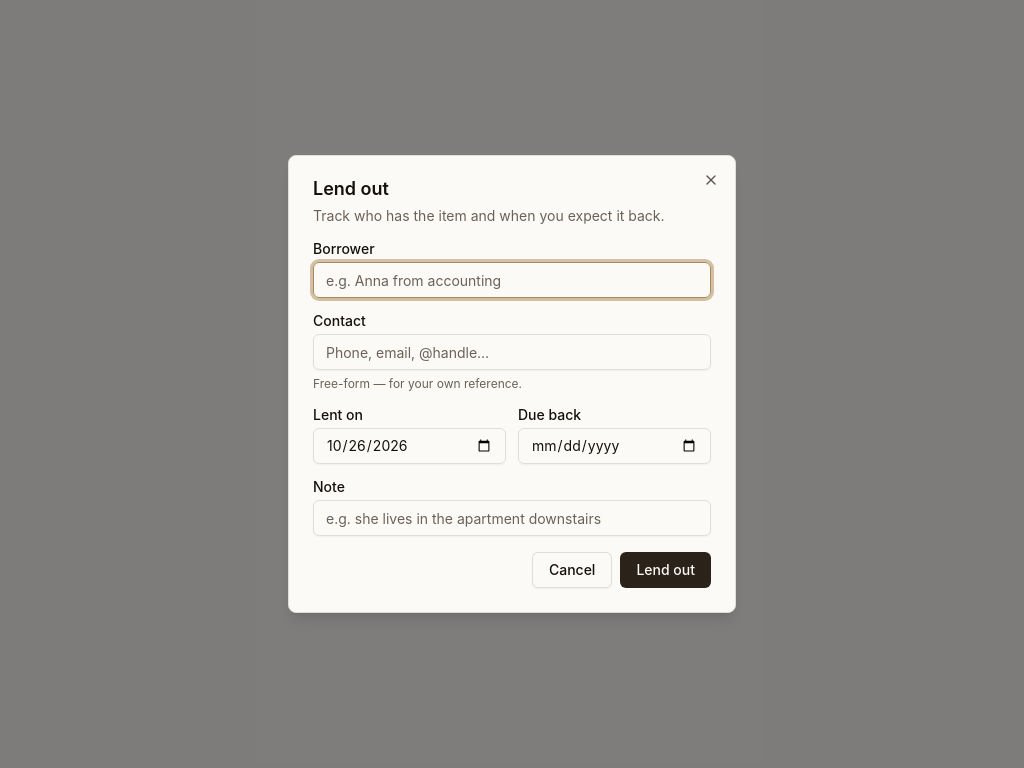
Test: <LendDialog /> › rejects an invalid lent_at format
Type "Alice" into the field with test id "lend-borrower-name" at (512, 280), box [313,262,711,298]
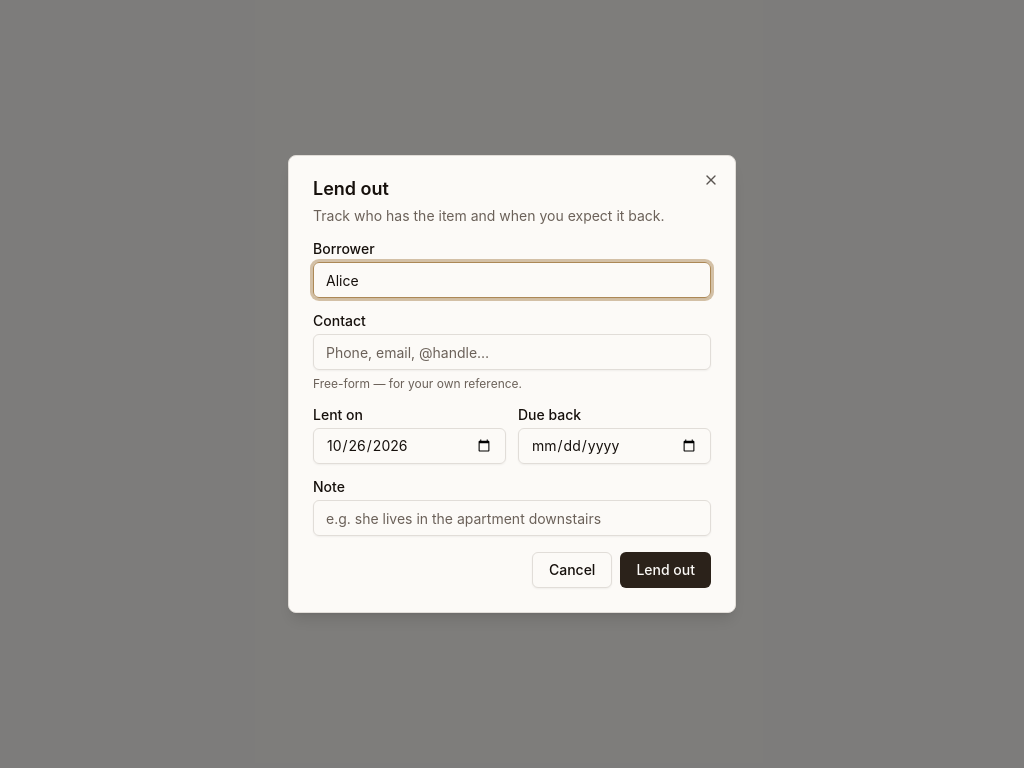
Type "not-a-date" into the date field with test id "lend-lent-at" at (410, 446), box [313,428,506,464]
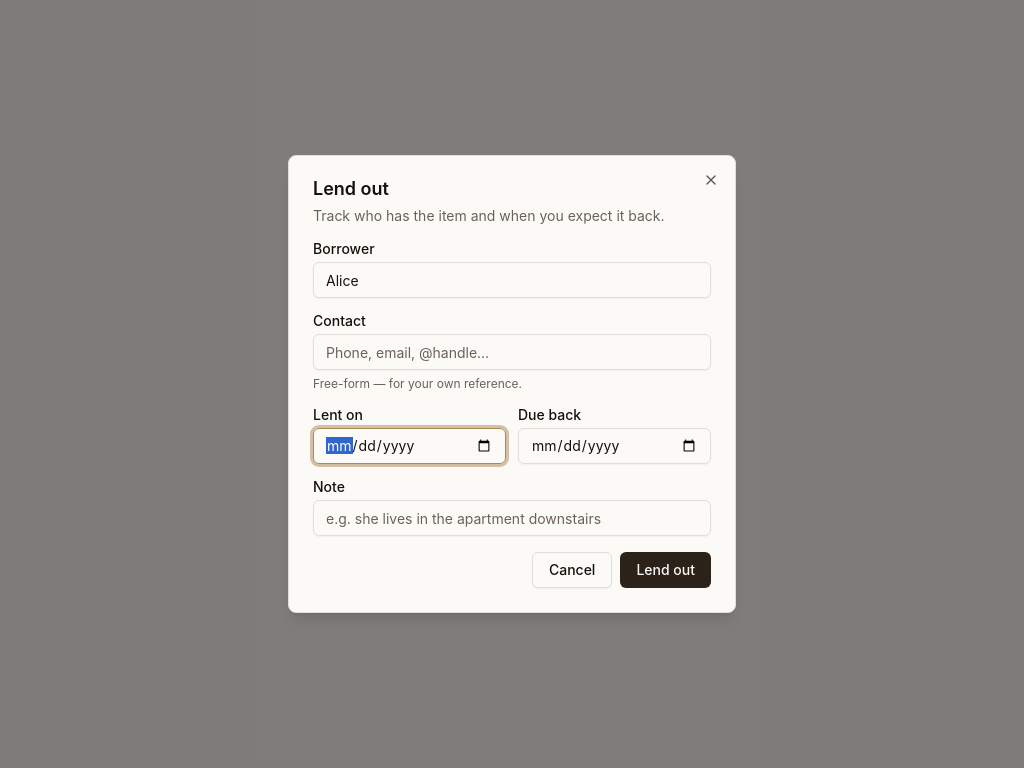
Click the button with test id "lend-submit" at (666, 570), box [620,552,711,588]
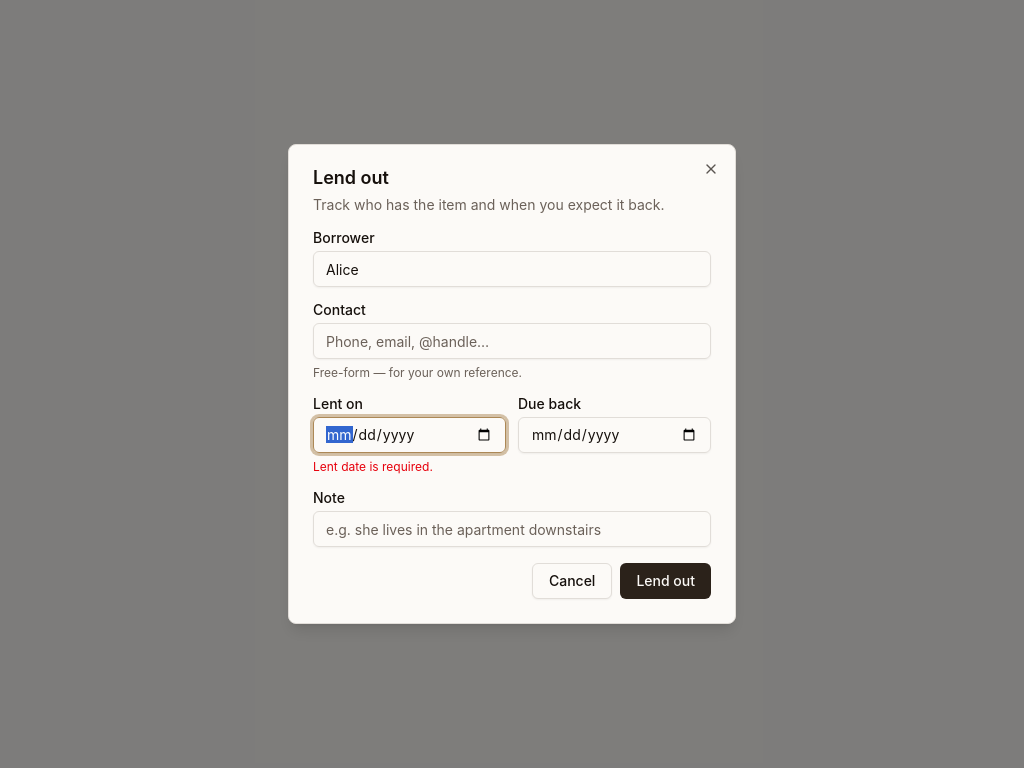
Expected: the text "Lent date is required." is shown, [313,459,433,474]
